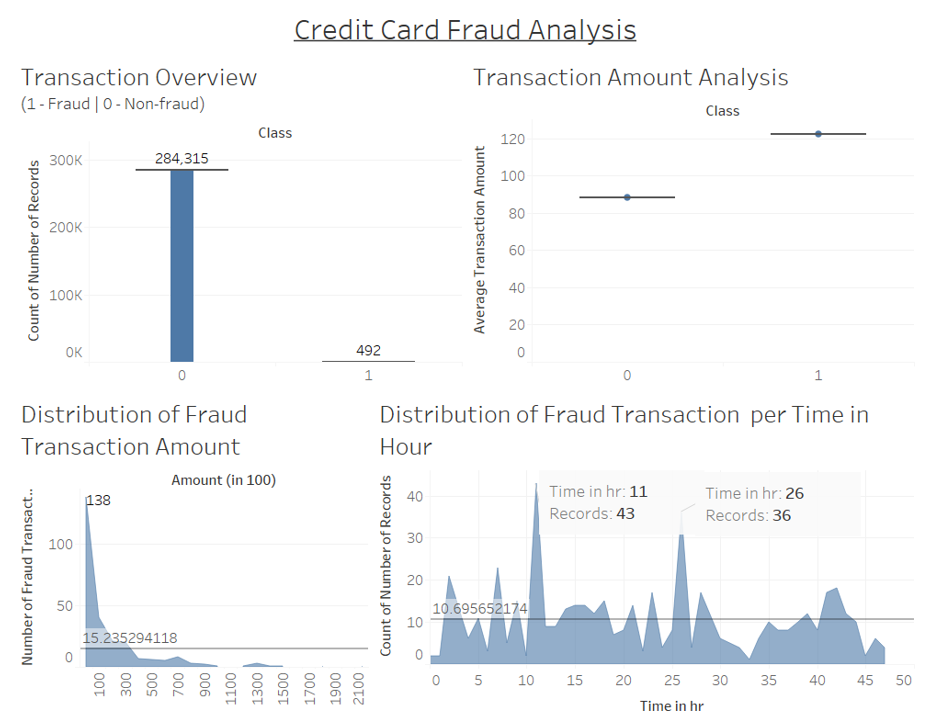

Layout of this report page (visuals, bound fields, positions):
{"tool":"tableau","page":{"name":"Dashboard","canvas":[1000,800],"ordinal":0},"visuals":[{"type":"title","box":[8,8,984,50]},{"type":"worksheet","title":"Transaction Overview","mark":"Bar","rows":["Number of Records"],"cols":["Class"],"box":[8,58,492,367]},{"type":"worksheet","title":"Transaction Amount Analysis","mark":"Circle","rows":["Amount"],"cols":["Class"],"box":[500,58,492,367]},{"type":"worksheet","title":"Fraud Transaction Amount","mark":"Area","rows":["Amount"],"cols":["Amount (bin)"],"box":[8,425,390,367]},{"type":"worksheet","title":"Time Series Analysis","mark":"Area","rows":["Number of Records"],"cols":["Calculation_1257911708839165952"],"box":[398,425,594,367]}]}

Visuals, with their boxes on the page's 1000x800 design canvas (x1, y1, x2, y2). These are canvas units, not pixel positions in the 941x715 screenshot, which may show the page scaled, cropped or inside an application window:
title: bbox=[8, 8, 992, 58]
"Transaction Overview" worksheet (Bar marks): bbox=[8, 58, 500, 425]
"Transaction Amount Analysis" worksheet (Circle marks): bbox=[500, 58, 992, 425]
"Fraud Transaction Amount" worksheet (Area marks): bbox=[8, 425, 398, 792]
"Time Series Analysis" worksheet (Area marks): bbox=[398, 425, 992, 792]
